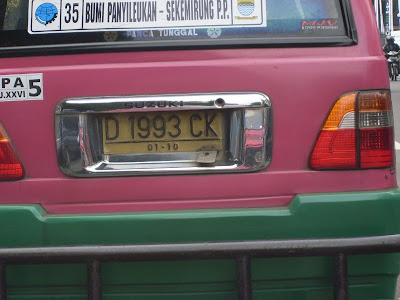plate: (105, 111, 224, 155)
